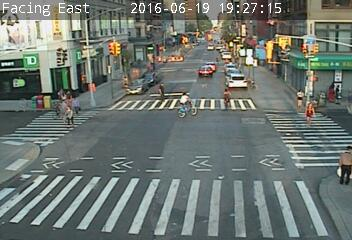neg: (168, 86, 198, 126), (237, 58, 257, 85), (278, 51, 297, 76), (264, 49, 283, 73), (321, 49, 339, 73), (201, 58, 217, 80), (223, 46, 239, 68), (304, 74, 320, 95), (238, 95, 251, 112)
pos: (331, 142, 351, 190), (288, 83, 312, 115), (300, 100, 322, 131), (217, 85, 238, 113), (329, 80, 348, 105), (322, 76, 340, 101), (67, 94, 85, 117), (59, 104, 76, 127), (153, 80, 170, 102), (49, 99, 64, 120), (56, 87, 69, 105)
